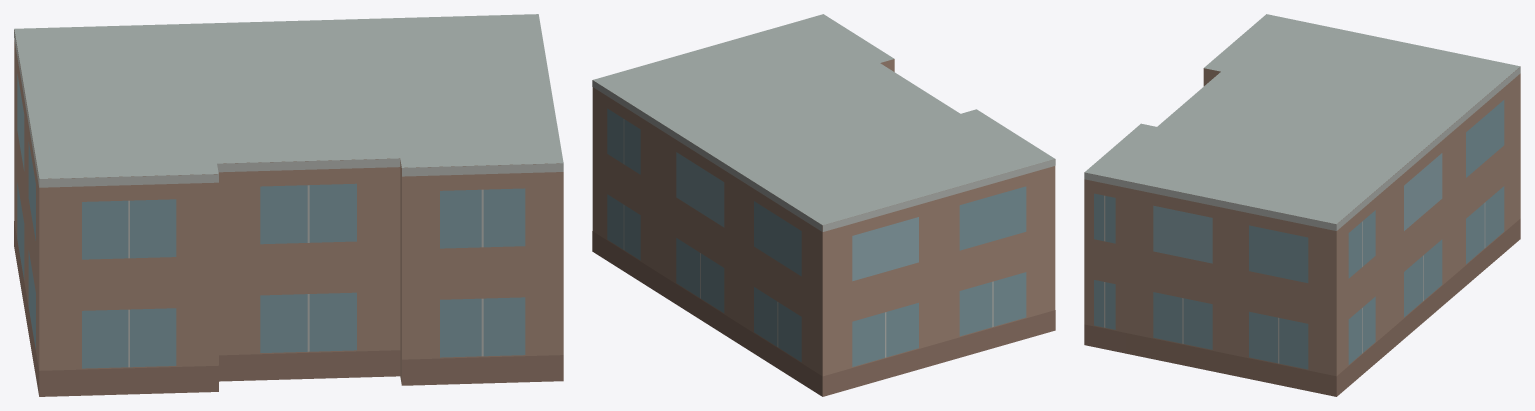
The model's file is survey-upis-32906293.glb.
The picture shows the model from 3 angles, left to right: view 1: azimuth 30°, elevation 25°; view 2: azimuth 150°, elevation 25°; view 3: azimuth 270°, elevation 25°; orthographic projection. The views are drawn at different scales.
Parts seen in each view (by area): view 1: survey-upis-32906293.tmp; view 2: survey-upis-32906293.tmp; view 3: survey-upis-32906293.tmp.
Boxes of the visible parts, <box> form: survey-upis-32906293.tmp: <box>14,14,563,396</box>; survey-upis-32906293.tmp: <box>592,14,1055,396</box>; survey-upis-32906293.tmp: <box>1084,14,1520,396</box>.
Bounding box in the file's own units: 15.94 × 6.1 × 13.98.
